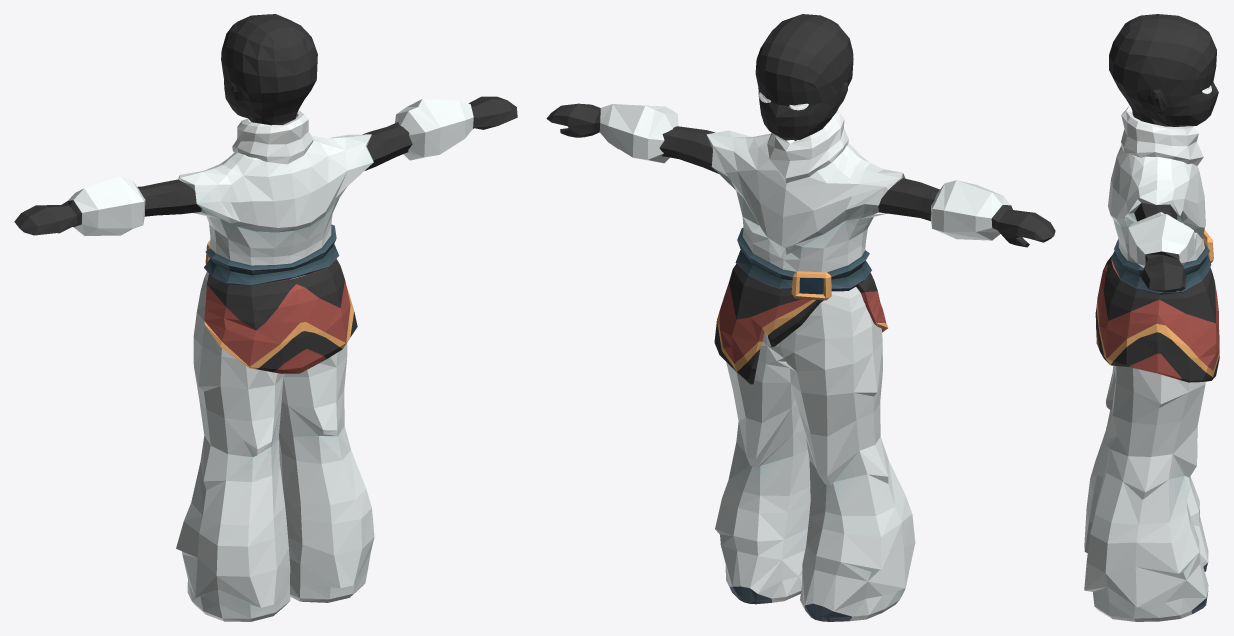
The model's file is CharSkyKid_Body_AP09Yeti_01.glb.
3 renders of one model, left to right at view 1: azimuth 30°, elevation 25°; view 2: azimuth 150°, elevation 25°; view 3: azimuth 270°, elevation 25°, orthographic.
Parts seen in each view (by area): view 1: CharSkyKid_Body_AP09Yeti_01; view 2: CharSkyKid_Body_AP09Yeti_01; view 3: CharSkyKid_Body_AP09Yeti_01.
Boxes of the visible parts, left/top/right/bottom form: CharSkyKid_Body_AP09Yeti_01: left=14, top=14, right=517, bottom=621; CharSkyKid_Body_AP09Yeti_01: left=546, top=14, right=1055, bottom=621; CharSkyKid_Body_AP09Yeti_01: left=1084, top=14, right=1219, bottom=621.
Bounding box in the file's own units: 13.83 × 15.08 × 3.26.
1 material, 1 textured.
